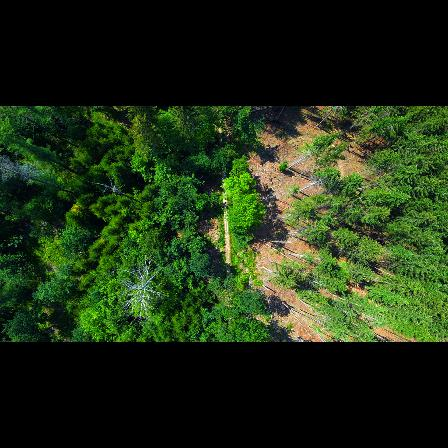Dead: (110, 261, 164, 325), (0, 155, 52, 184), (85, 173, 126, 197)
